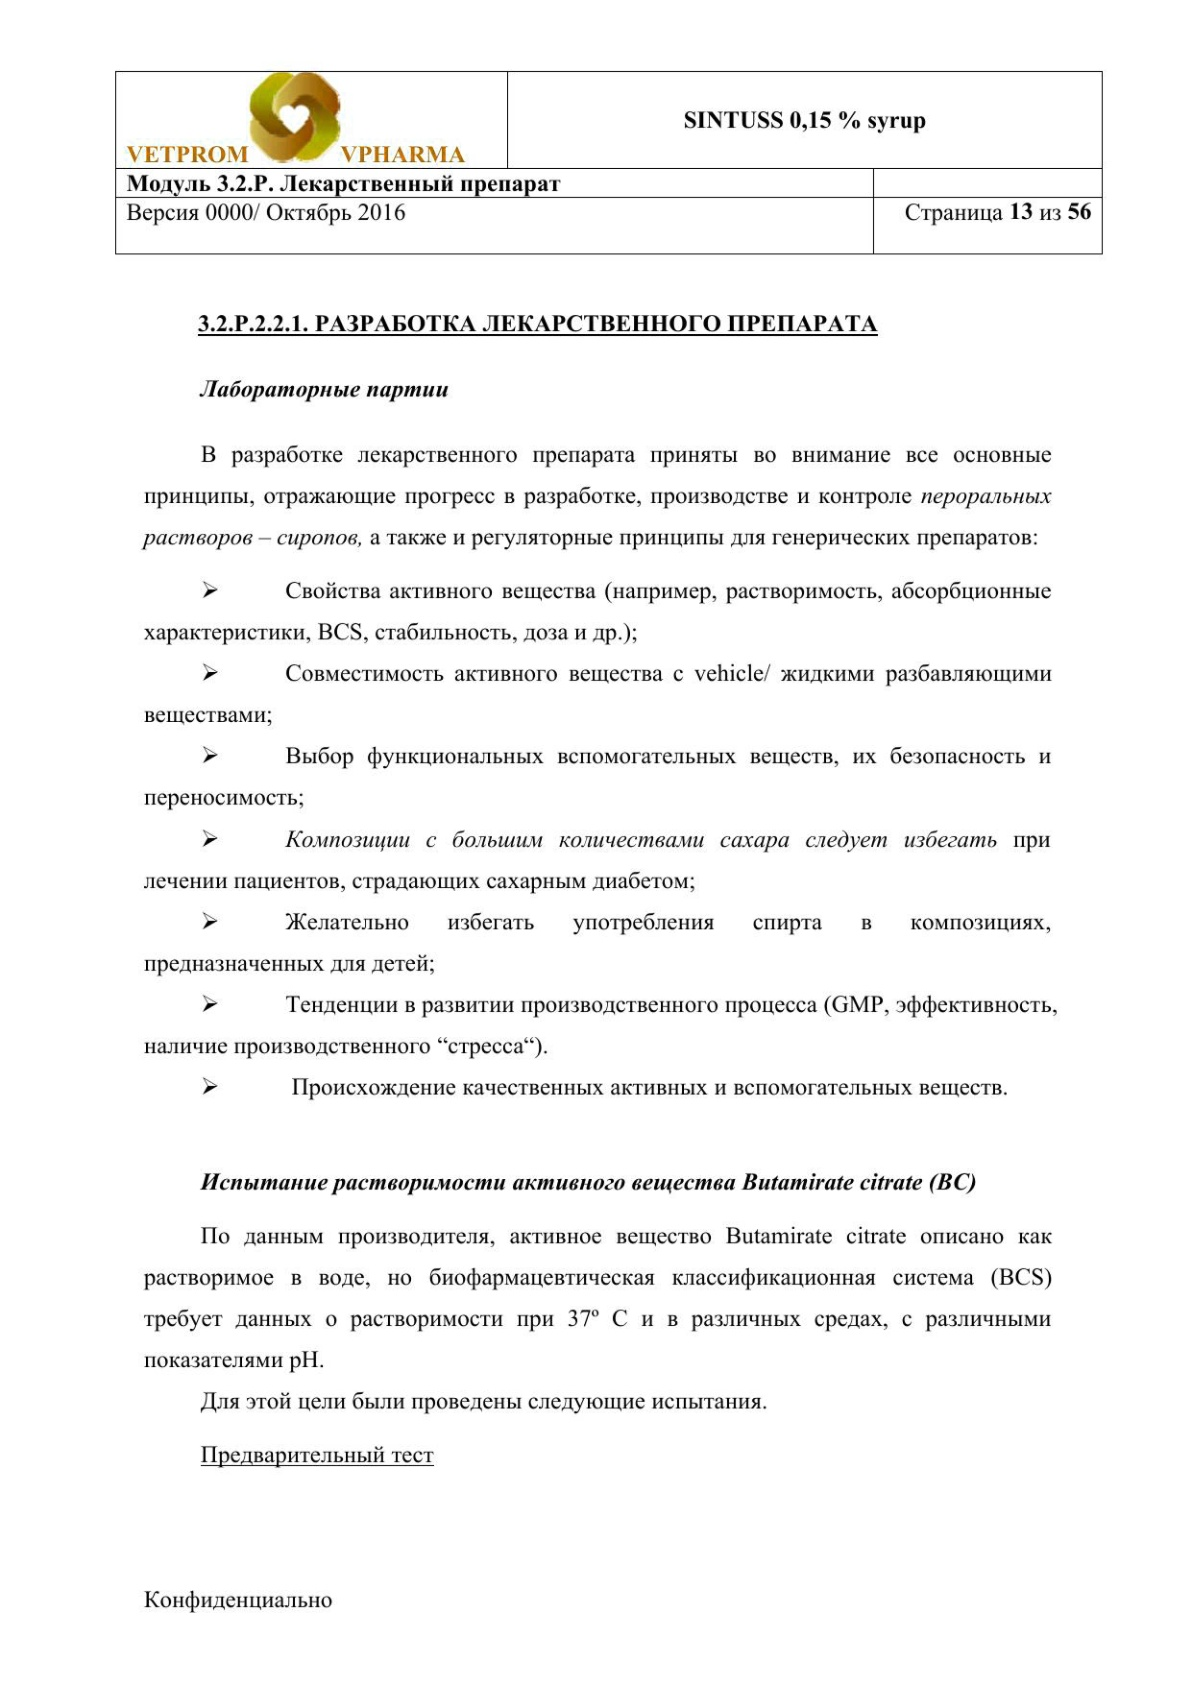merged_cells: (115, 70, 1104, 255)
